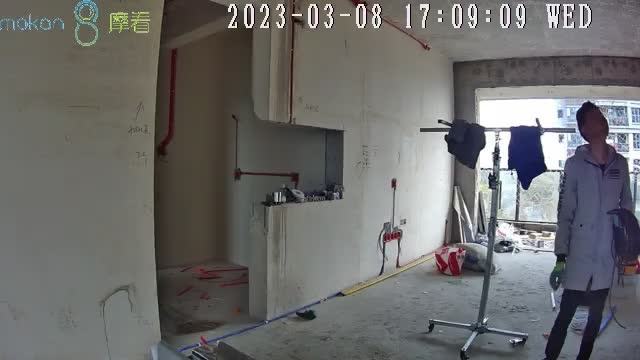people: (547, 101, 638, 360)
window: (479, 99, 640, 222)
